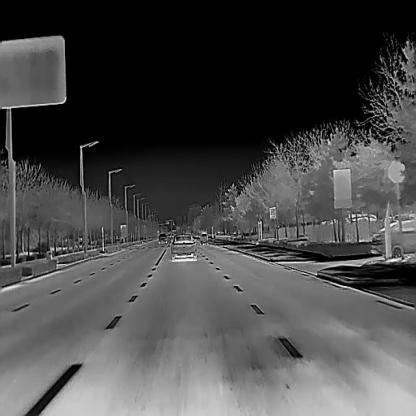car: (370, 218, 415, 258), (170, 234, 196, 259), (199, 232, 208, 242), (158, 233, 166, 243)
